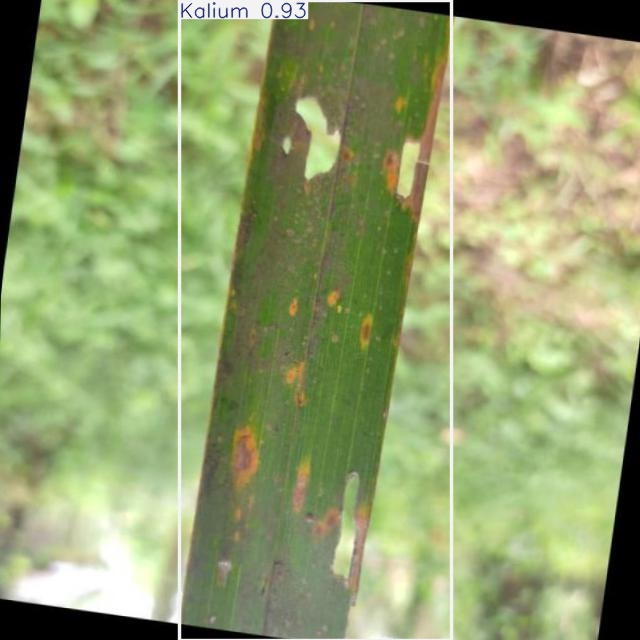Kalium: (180, 0, 452, 640)
